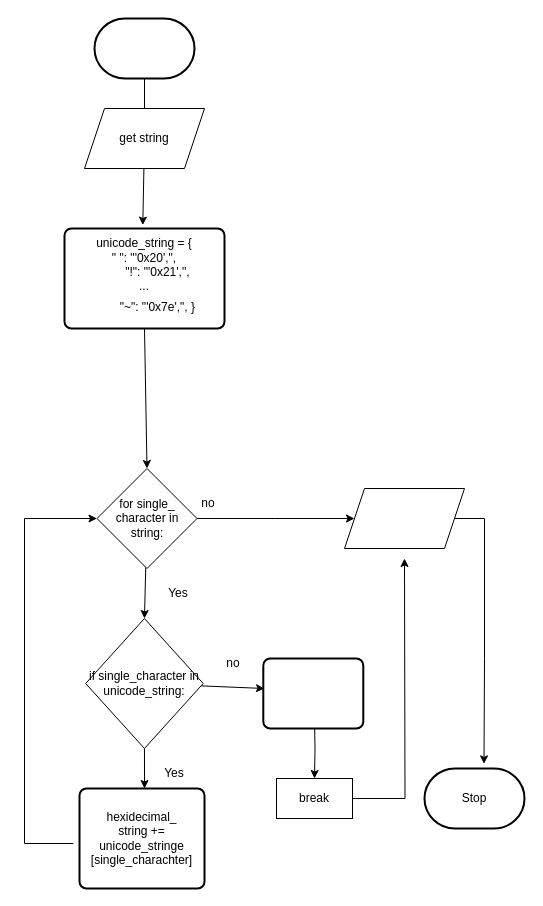
Some shapes in this 543 by 906 pixel diagram are drawn without their labels. The box of each missing label's shape, as (x1, y1, x2, y2) in pixels:
hexidecimal_string += "-1": (262, 657, 364, 729)
return hexidecimal_string: (344, 488, 464, 548)
Start: (93, 17, 195, 79)
